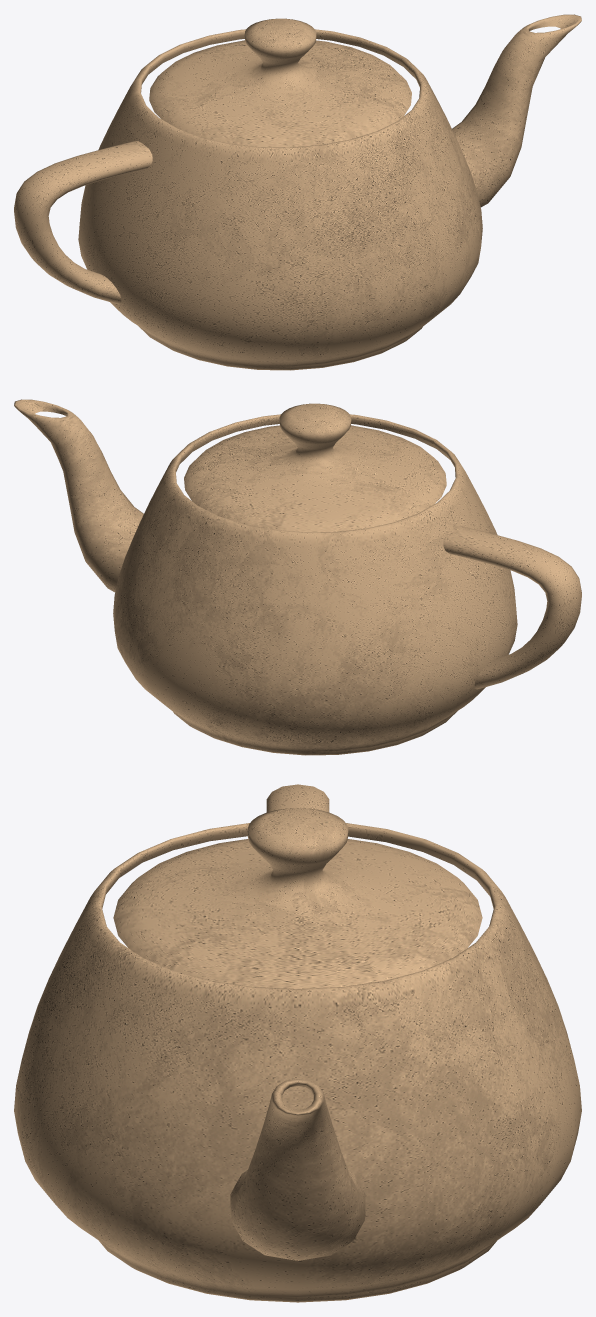
File: Teapot.gltf
3 renders of one model, top to bottom at view 1: azimuth 30°, elevation 25°; view 2: azimuth 150°, elevation 25°; view 3: azimuth 270°, elevation 25°, orthographic. The views are drawn at different scales.
Visible parts, largest first — view 1: Teapot; view 2: Teapot; view 3: Teapot.
Boxes of the visible parts, x1,y1,x2,y2 form: Teapot: (14,14,581,370); Teapot: (14,399,581,755); Teapot: (14,784,581,1302).
Bounding box in the file's own units: 257 × 126 × 160.
Materials: 1 (1 with a texture image).
